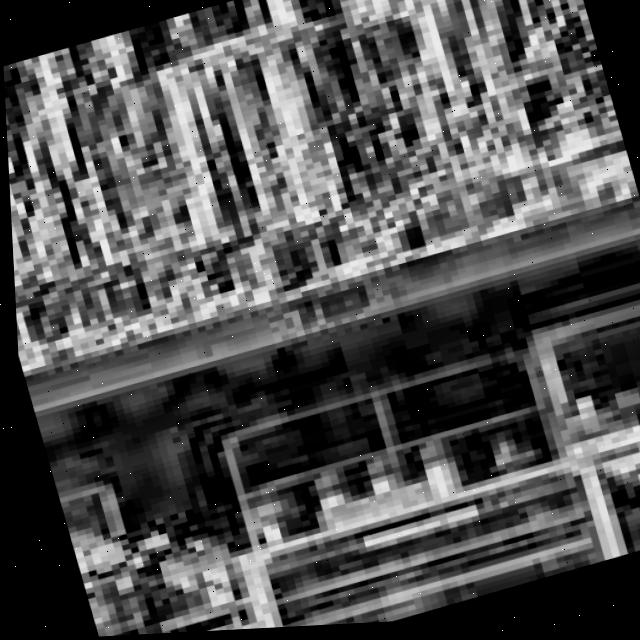dump_truck: (7, 145, 640, 640)
